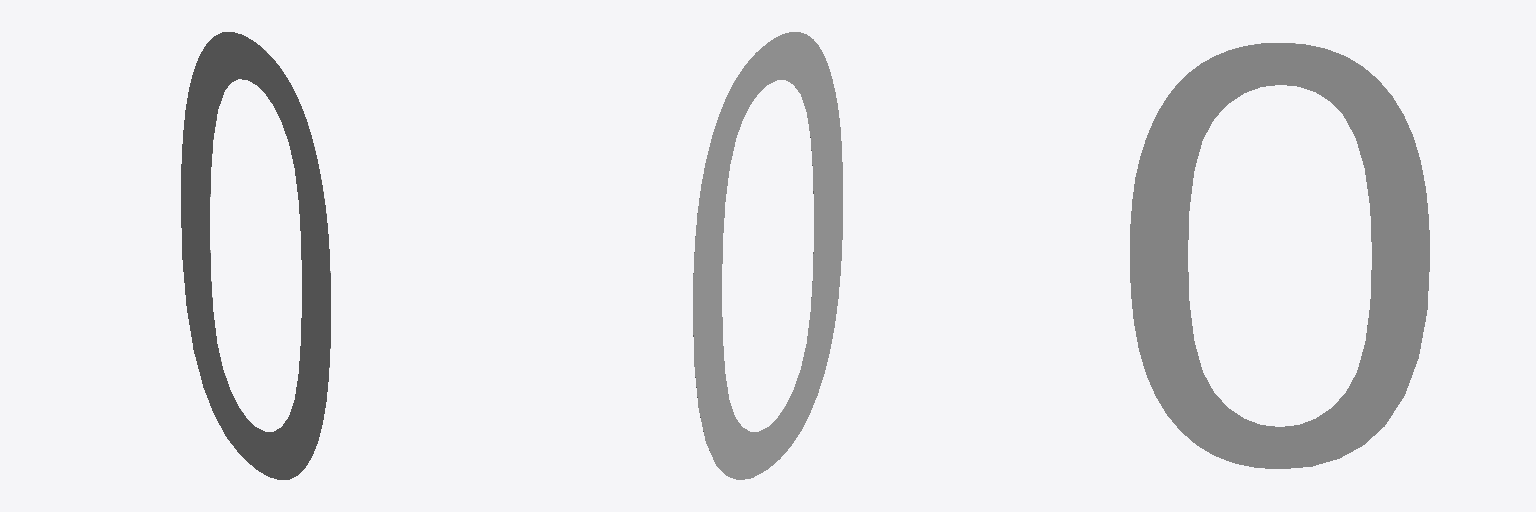
The model's file is zero.obj.
3 renders of one model, left to right at view 1: azimuth 30°, elevation 25°; view 2: azimuth 150°, elevation 25°; view 3: azimuth 270°, elevation 25°, orthographic.
Visible parts, largest first — view 1: TextPlus001; view 2: TextPlus001; view 3: TextPlus001.
Boxes of the visible parts, x1=… form: TextPlus001: x1=181, y1=32, x2=330, y2=479; TextPlus001: x1=693, y1=32, x2=842, y2=479; TextPlus001: x1=1130, y1=43, x2=1429, y2=468.
Bounding box in the file's own units: 0.0001 × 0.8258 × 0.527.